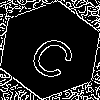C: (25, 25, 86, 84)
